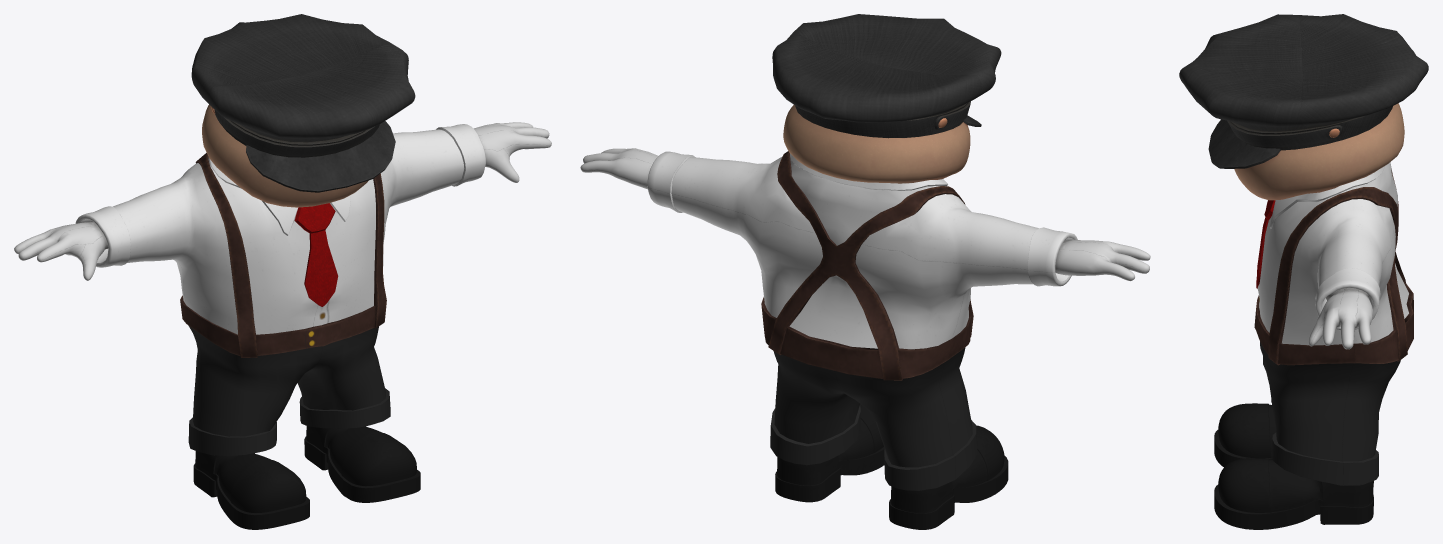
File: enemy.fbx
The picture shows the model from 3 angles, left to right: view 1: azimuth 30°, elevation 25°; view 2: azimuth 150°, elevation 25°; view 3: azimuth 270°, elevation 25°; orthographic projection. The views are drawn at different scales.
Parts seen in each view (by area): view 1: Plane.008; view 2: Plane.008; view 3: Plane.008.
Part boxes in pixels (x1,y1,x2,y2): Plane.008: [14, 14, 551, 529]; Plane.008: [580, 14, 1150, 529]; Plane.008: [1179, 14, 1428, 529].
Size of the model in its own units: 219 by 165 by 86.42.
1 material, 1 textured.
